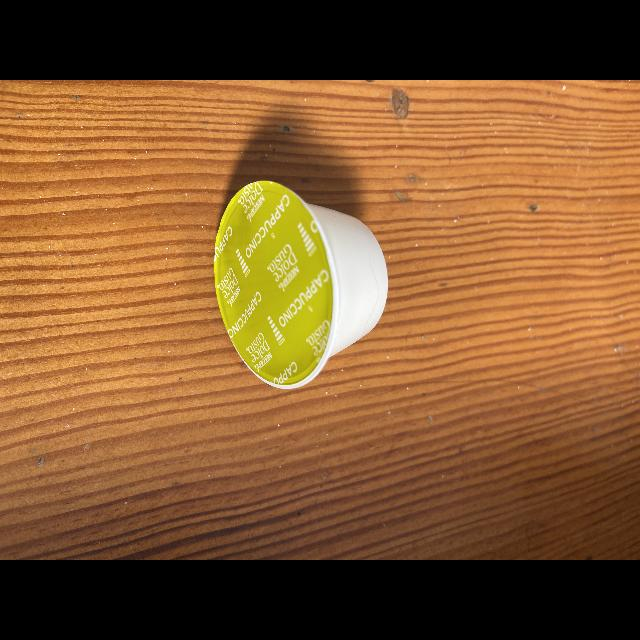intact_capsule: (185, 176, 405, 394)
